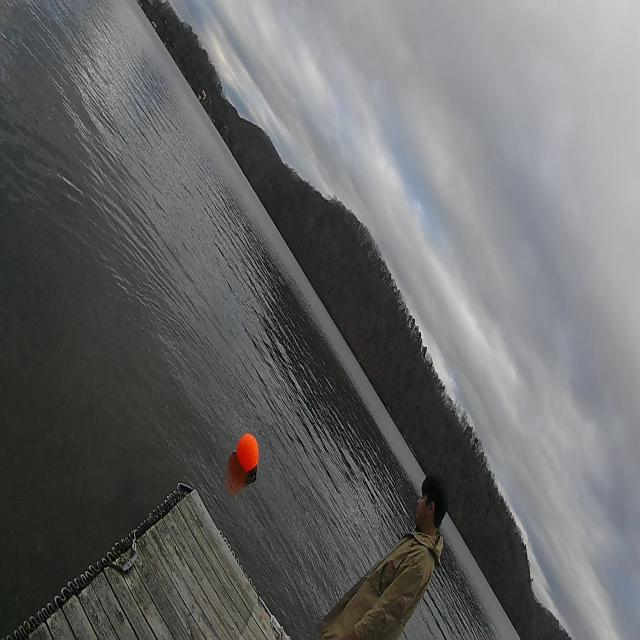Buoy: (235, 428, 261, 488)
